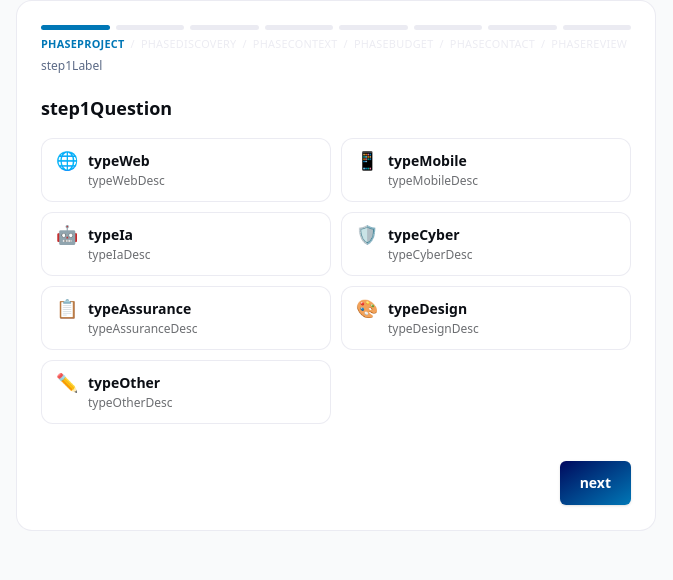
Test: QuoteWizard › bloque le passage à l'étape suivante et affiche une erreur sans réponse
The width and height of the screenshot is (673, 580).
Click the button "next". click: (595, 483)
box: [560,461,631,505]
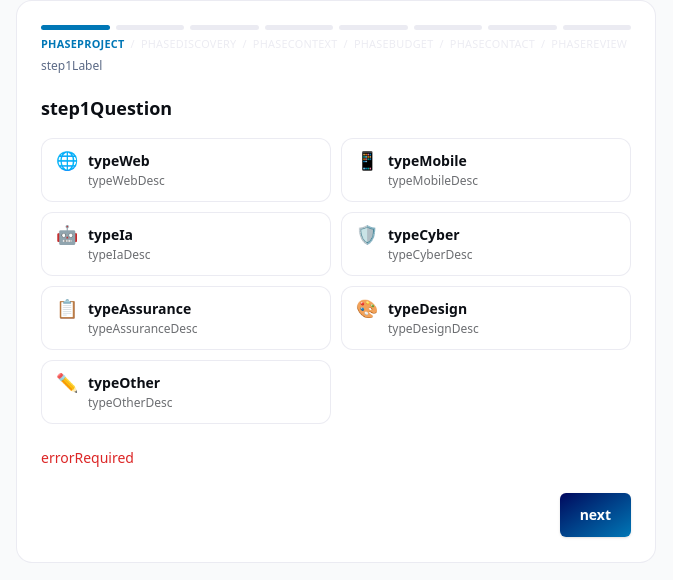
Check: the text "step1Question" is shown, box [41,94,172,122]
Check: the message reads "errorRequired", box [41,448,134,467]
